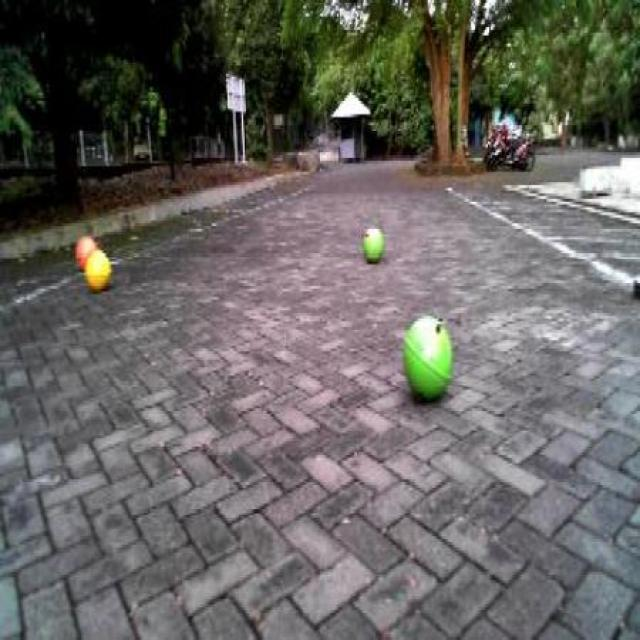buoy: (399, 306, 456, 411), (80, 236, 114, 294), (69, 226, 103, 276), (359, 218, 386, 264)
